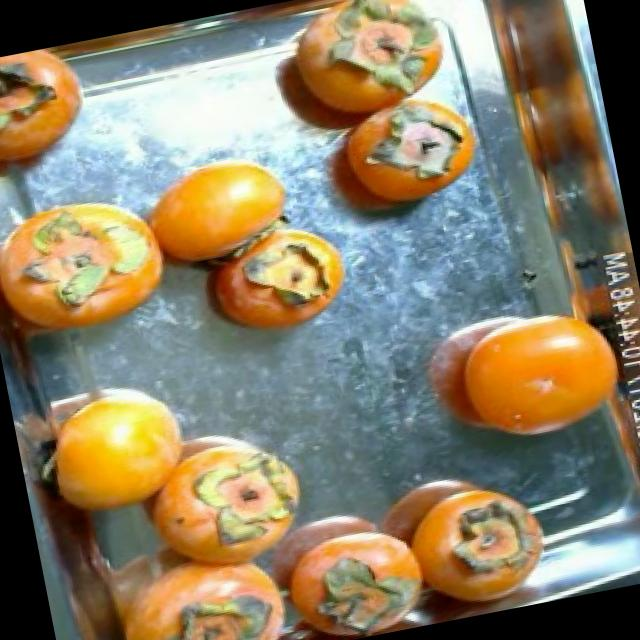Fruit: (411, 294, 640, 472), (108, 130, 317, 290), (188, 206, 372, 354), (155, 404, 324, 550)
